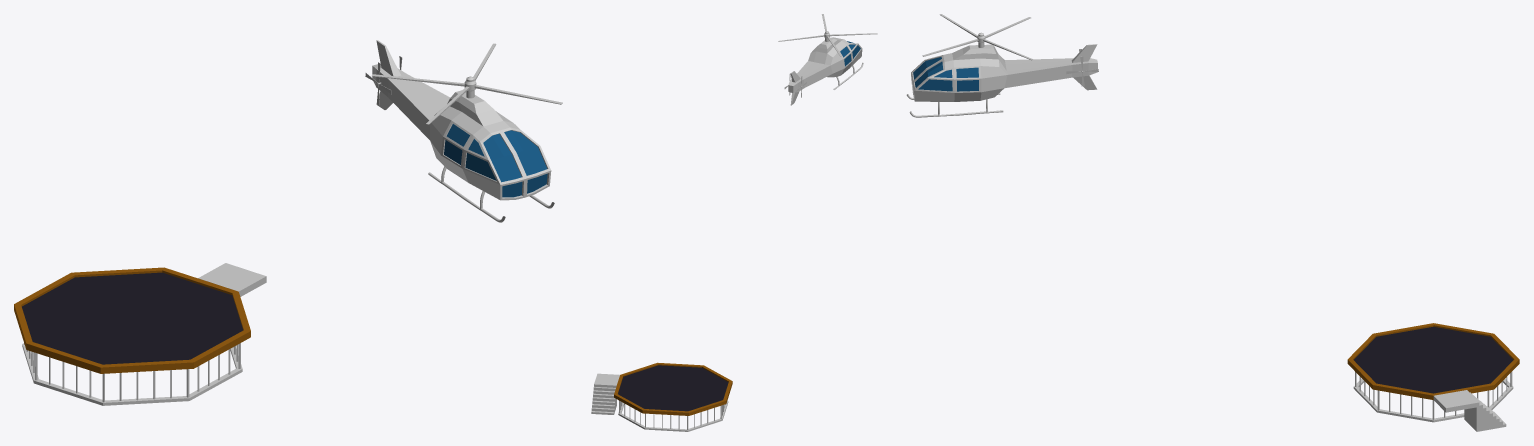
File: copter_000066.obj
The picture shows the model from 3 angles, left to right: view 1: azimuth 30°, elevation 25°; view 2: azimuth 150°, elevation 25°; view 3: azimuth 270°, elevation 25°; orthographic projection. The views are drawn at different scales.
Visible parts, largest first — view 1: Cylinder.001_Cylinder.012, Helicopter.007_Cylinder.008, Helicopter.001_Cylinder.001, Cylinder.004; view 2: Cylinder.001_Cylinder.012, Helicopter.007_Cylinder.008, Helicopter.001_Cylinder.001; view 3: Cylinder.001_Cylinder.012, Helicopter.007_Cylinder.008, Helicopter.001_Cylinder.001.
Boxes of the visible parts, bbox=[...] form: Cylinder.001_Cylinder.012: bbox=[14, 263, 266, 405]; Helicopter.007_Cylinder.008: bbox=[372, 40, 554, 222]; Helicopter.001_Cylinder.001: bbox=[371, 43, 562, 124]; Cylinder.004: bbox=[119, 349, 230, 400]; Cylinder.001_Cylinder.012: bbox=[591, 362, 732, 431]; Helicopter.007_Cylinder.008: bbox=[788, 37, 863, 105]; Helicopter.001_Cylinder.001: bbox=[778, 14, 877, 56]; Cylinder.001_Cylinder.012: bbox=[1347, 323, 1519, 431]; Helicopter.007_Cylinder.008: bbox=[906, 44, 1097, 117]; Helicopter.001_Cylinder.001: bbox=[922, 14, 1032, 60].
Bounding box in the file's own units: 7.94 × 15.68 × 24.15.
